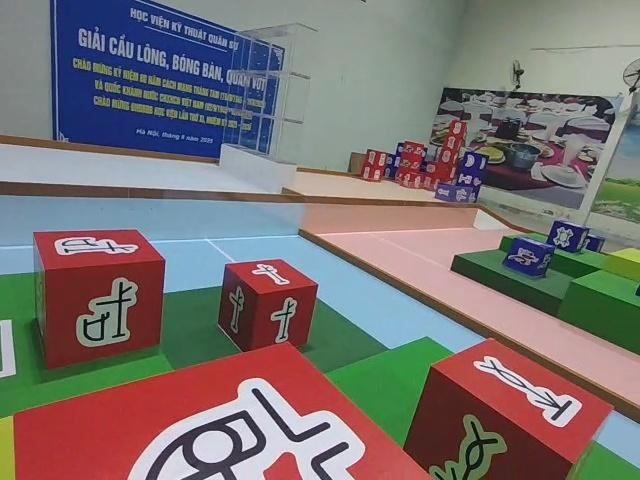R2 Real: (0, 335, 438, 480), (401, 333, 618, 480), (31, 225, 168, 371), (214, 257, 321, 355)
